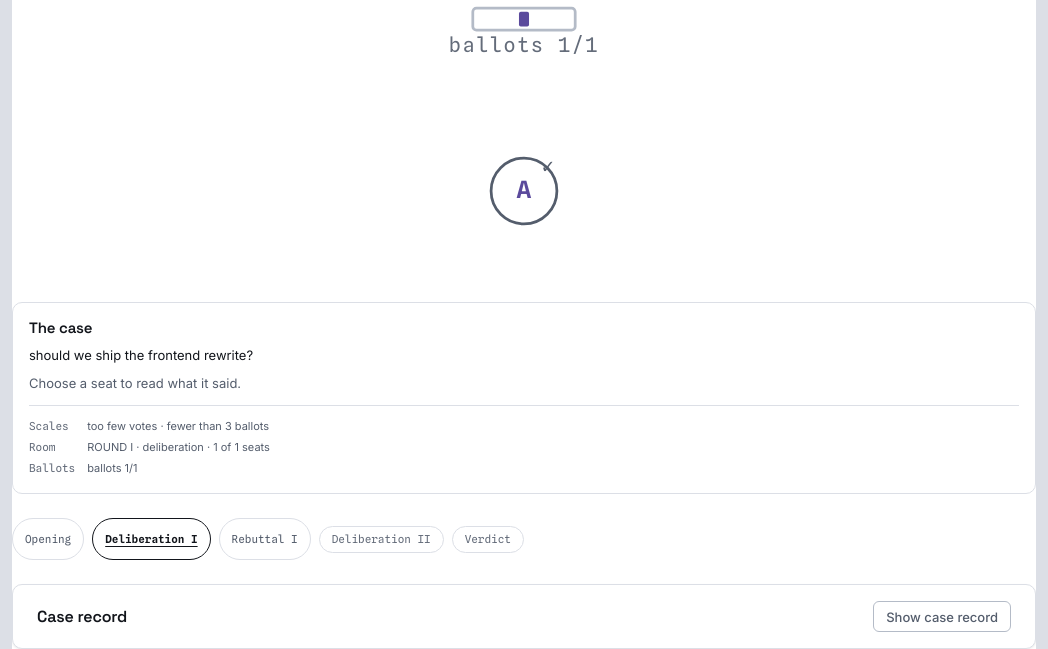
Council - a seat's answer › keeps the round-0 answer on the card after later steps have run
(page scrolled)
Click the button "Show case record" at (942, 617), box [873,601,1011,632]
(page scrolled)
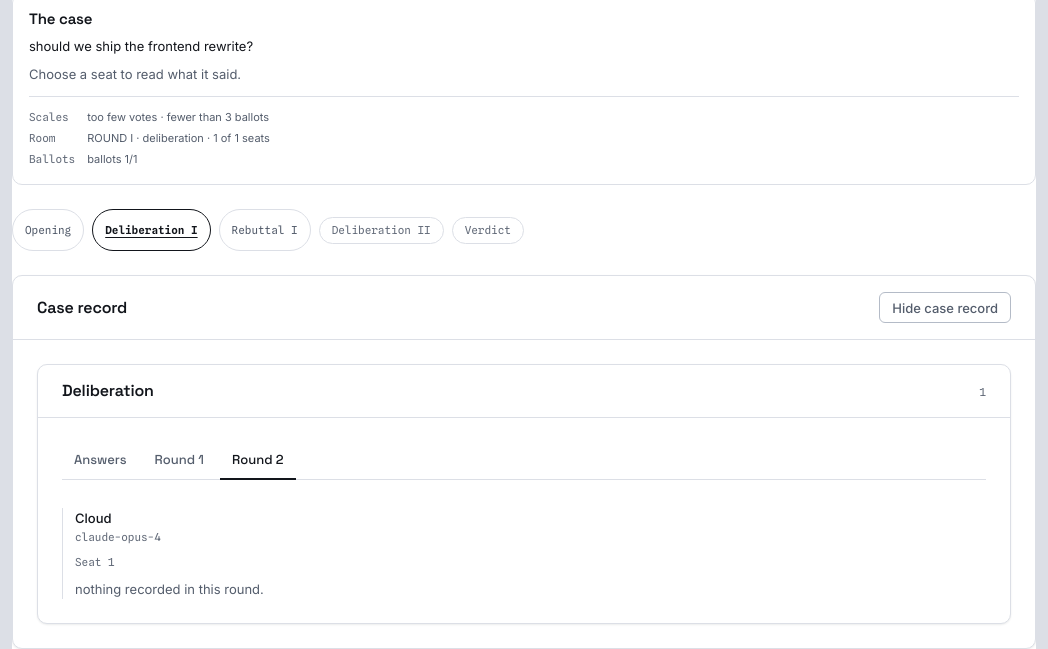
Press the mouse on the tab "Answers" at (100, 461), box [62,442,138,480]
(page scrolled)
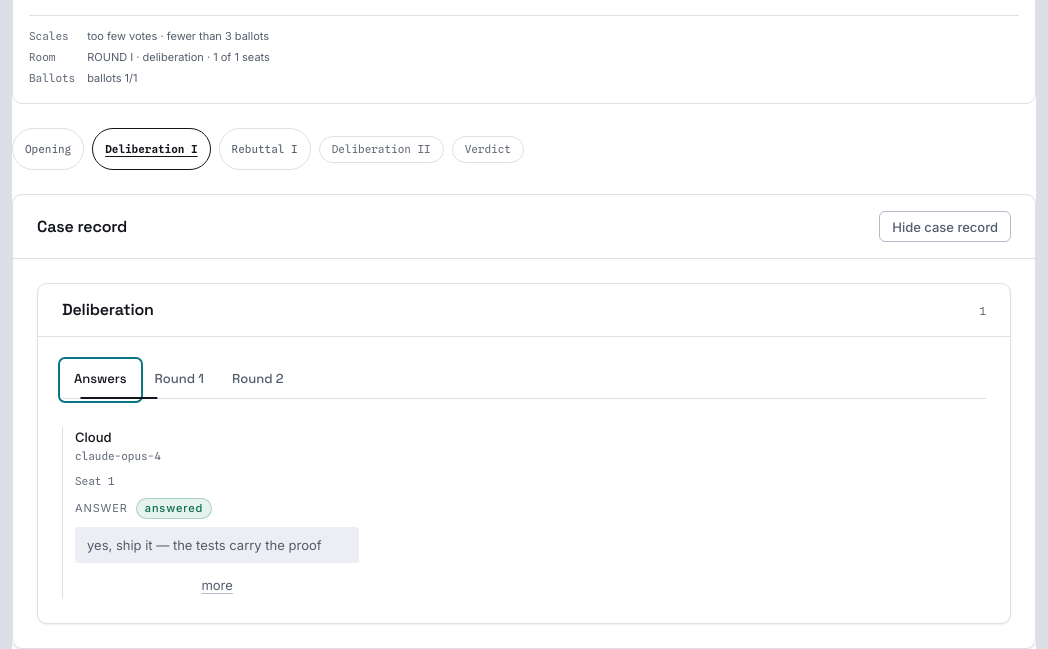
Now the panel shows "yes, ship it — the tests carry the proof", box [87,537,322,553]
